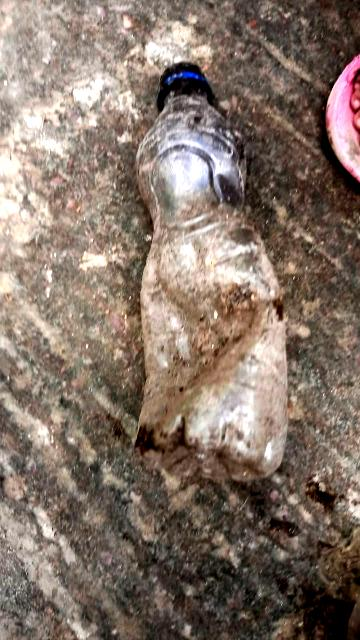bottle: (145, 81, 289, 472)
